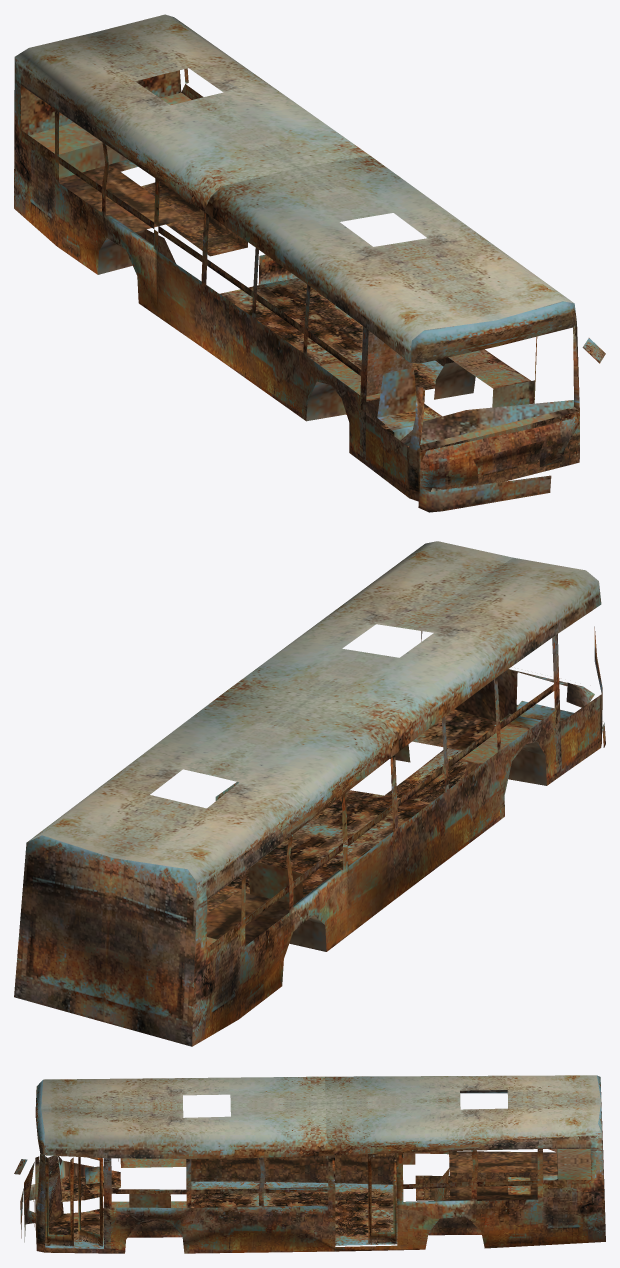
File: Prop_Wj035_lod1.glb
3 renders of one model, top to bottom at view 1: azimuth 30°, elevation 25°; view 2: azimuth 150°, elevation 25°; view 3: azimuth 270°, elevation 25°, orthographic. The views are drawn at different scales.
Parts seen in each view (by area): view 1: xiutz_wj035_lod0; view 2: xiutz_wj035_lod0; view 3: xiutz_wj035_lod0.
Part boxes in pixels (x1,y1,x2,y2): xiutz_wj035_lod0: (14, 14, 605, 512); xiutz_wj035_lod0: (14, 541, 605, 1046); xiutz_wj035_lod0: (14, 1075, 605, 1253).
Size of the model in its own units: 4.34 by 4.01 by 16.55.
1 material, 1 textured.
